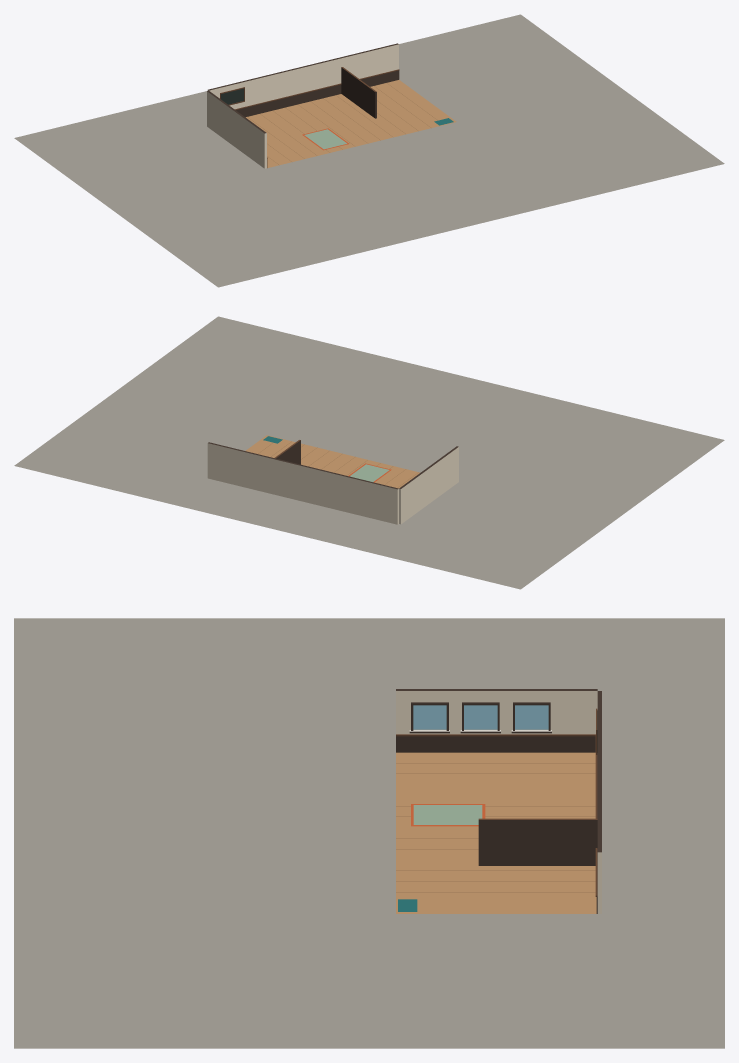
Rendered from shell_roastery_low.fbx.
3 views of the same model, one above another, from view 1: azimuth 30°, elevation 25°; view 2: azimuth 150°, elevation 25°; view 3: azimuth 270°, elevation 25° (orthographic). The views are drawn at different scales.
Parts seen in each view (by area): view 1: shell_roastery_low; view 2: shell_roastery_low; view 3: shell_roastery_low.
Part boxes in pixels (left/top/right/bottom): shell_roastery_low: left=14, top=14, right=724, bottom=287; shell_roastery_low: left=14, top=316, right=724, bottom=589; shell_roastery_low: left=14, top=618, right=724, bottom=1048.
Bounding box in the file's own units: 48 × 3.22 × 33.5.
